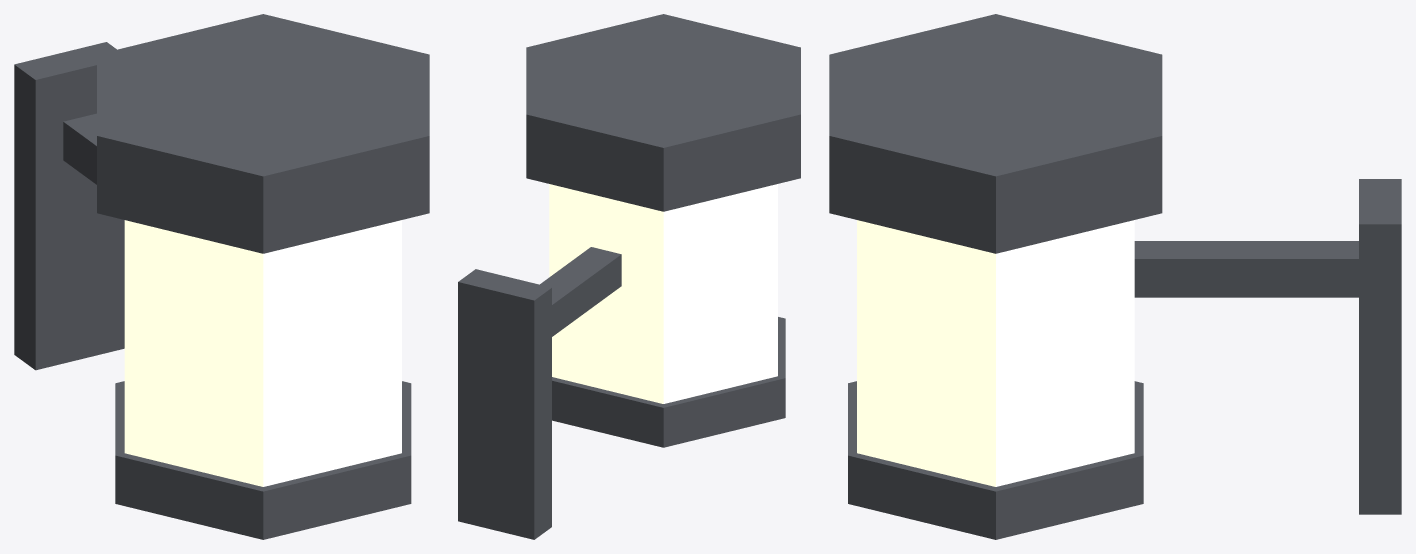
The model's file is arkham_prop_walllantern.glb.
3 renders of one model, left to right at view 1: azimuth 30°, elevation 25°; view 2: azimuth 150°, elevation 25°; view 3: azimuth 270°, elevation 25°, orthographic. The views are drawn at different scales.
Visible parts, largest first — view 1: Arkham_Prop_WallLantern; view 2: Arkham_Prop_WallLantern; view 3: Arkham_Prop_WallLantern.
Part boxes in pixels (x1,y1,x2,y2): Arkham_Prop_WallLantern: (14,14,429,539); Arkham_Prop_WallLantern: (458,14,800,539); Arkham_Prop_WallLantern: (829,14,1401,539).
Bounding box in the file's own units: 0.36 × 0.41 × 0.5359.
